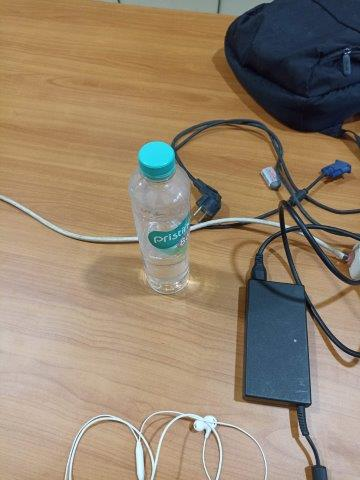botolplastik: (129, 140, 191, 295)
